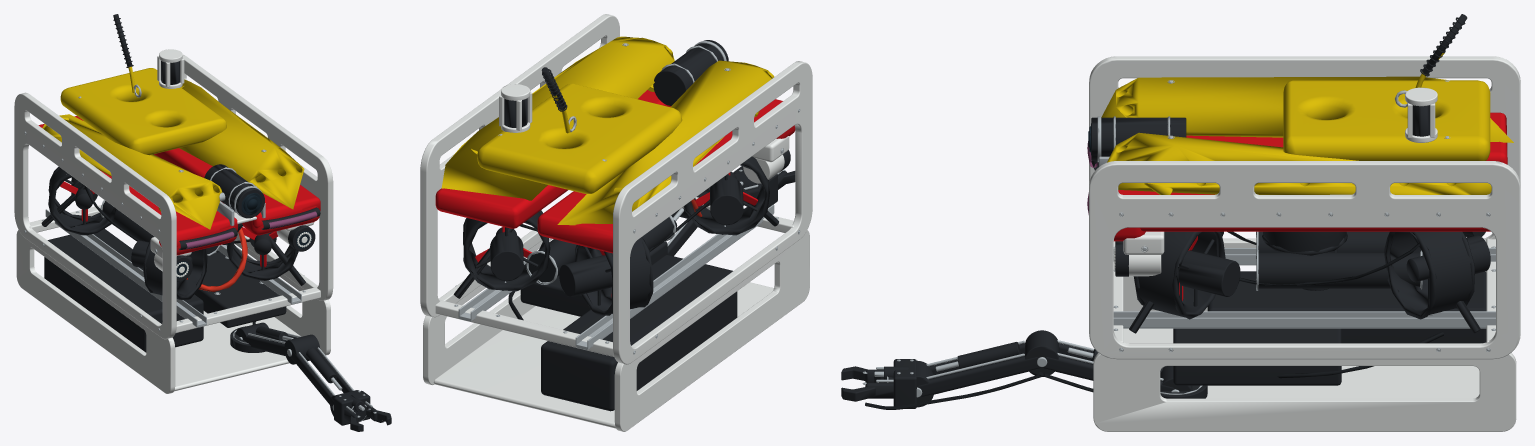
The model's file is falcon_lod2.glb.
3 renders of one model, left to right at view 1: azimuth 30°, elevation 25°; view 2: azimuth 150°, elevation 25°; view 3: azimuth 270°, elevation 25°, orthographic. The views are drawn at different scales.
Parts seen in each view (by area): view 1: PP side frame.001, Buoyancy rear bridge, Manipulator skid side.001, Skid hydraulic power unit, Sculpted buoyancy shoulder, PP side frame, Sculpted buoyancy shoulder.001, Manipulator skid bottom, Skid manifold enclosure, Manipulator skid side, Red longitudinal deck, PP cross frame.001 (+22 smaller); view 2: PP side frame.001, Buoyancy rear bridge, Skid hydraulic power unit, Manipulator skid side.001, Sculpted buoyancy shoulder, Manipulator skid bottom, PP side frame, Sculpted buoyancy shoulder.001, Manipulator skid side, Red longitudinal deck, Red longitudinal deck.001, PP cross frame (+23 smaller); view 3: PP side frame, Manipulator skid side, Buoyancy rear bridge, PP side frame.001, Sculpted buoyancy shoulder.001, Sculpted buoyancy shoulder, Skid hydraulic power unit, Manipulator skid bottom, Skid manifold enclosure, Lower pressure housing, T3 open duct, Lower channel flange (+20 smaller).
Part boxes in pixels (x1=…): PP side frame.001: x1=14, y1=92, x2=176, y2=339; Buoyancy rear bridge: x1=60, y1=68, x2=226, y2=155; Manipulator skid side.001: x1=16, y1=230, x2=175, y2=393; Skid hydraulic power unit: x1=44, y1=228, x2=203, y2=352; Sculpted buoyancy shoulder: x1=179, y1=79, x2=304, y2=209; PP side frame: x1=182, y1=54, x2=333, y2=300; Sculpted buoyancy shoulder.001: x1=42, y1=114, x2=222, y2=229; Manipulator skid bottom: x1=174, y1=311, x2=300, y2=391; Skid manifold enclosure: x1=194, y1=252, x2=286, y2=327; Manipulator skid side: x1=208, y1=239, x2=330, y2=355; Red longitudinal deck: x1=154, y1=148, x2=320, y2=228; PP cross frame.001: x1=175, y1=287, x2=320, y2=332; PP side frame.001: x1=613, y1=61, x2=812, y2=364; Buoyancy rear bridge: x1=477, y1=83, x2=682, y2=193; Skid hydraulic power unit: x1=541, y1=255, x2=737, y2=411; Manipulator skid side.001: x1=614, y1=230, x2=809, y2=431; Sculpted buoyancy shoulder: x1=441, y1=36, x2=674, y2=200; Manipulator skid bottom: x1=433, y1=282, x2=773, y2=428; PP side frame: x1=420, y1=14, x2=619, y2=317; Sculpted buoyancy shoulder.001: x1=557, y1=60, x2=774, y2=225; Manipulator skid side: x1=423, y1=238, x2=552, y2=385; Red longitudinal deck: x1=435, y1=90, x2=670, y2=228; Red longitudinal deck.001: x1=537, y1=99, x2=782, y2=253; PP cross frame: x1=435, y1=300, x2=614, y2=356; PP side frame: x1=1089, y1=161, x2=1520, y2=359; Manipulator skid side: x1=1093, y1=353, x2=1516, y2=431; Buoyancy rear bridge: x1=1283, y1=80, x2=1490, y2=160; PP side frame.001: x1=1089, y1=56, x2=1520, y2=247; Sculpted buoyancy shoulder.001: x1=1101, y1=76, x2=1513, y2=142; Sculpted buoyancy shoulder: x1=1107, y1=132, x2=1491, y2=194; Skid hydraulic power unit: x1=1207, y1=271, x2=1486, y2=343; Manipulator skid bottom: x1=1123, y1=328, x2=1479, y2=398; Skid manifold enclosure: x1=1173, y1=328, x2=1341, y2=385; Lower pressure housing: x1=1258, y1=252, x2=1420, y2=288; T3 open duct: x1=1390, y1=231, x2=1472, y2=314; Lower channel flange: x1=1113, y1=317, x2=1495, y2=327.
Bounding box in the file's own units: 0.602 × 0.9339 × 1.57.
